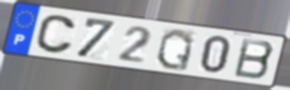0: (198, 34, 234, 75)
2: (116, 26, 154, 66)
7: (78, 16, 118, 60)
B: (232, 36, 277, 81)
C: (34, 13, 78, 56)
Q: (154, 27, 196, 73)
